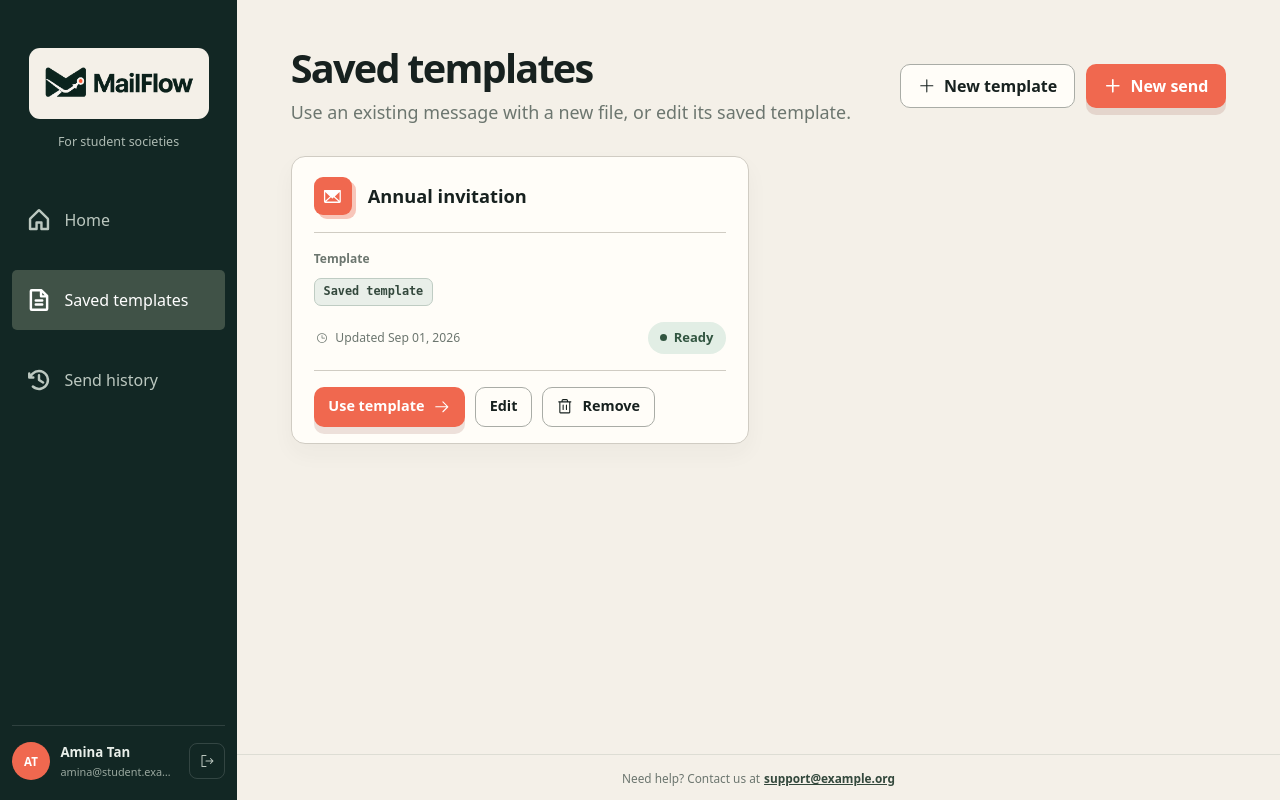
Test: authenticated information architecture › requires confirmation before removing a flow and then archives it
Click the button with aria-label "Remove Annual invitation".
click(598, 407)  # box [542,387,655,427]
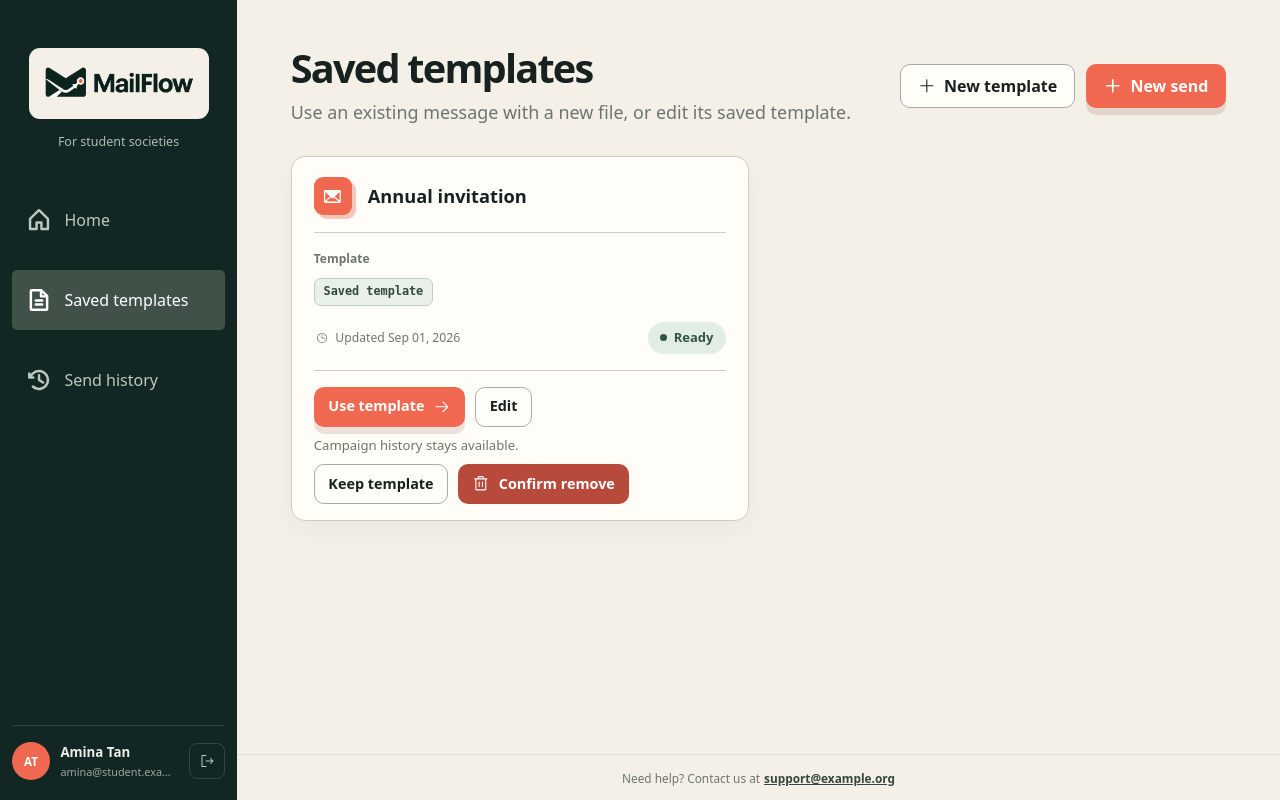
Expected: the text "Campaign history stays available." is shown, [314,436,519,454]
Click the button with aria-label "Confirm remove Annual invitation".
click(544, 484)  # box [458,464,630,504]
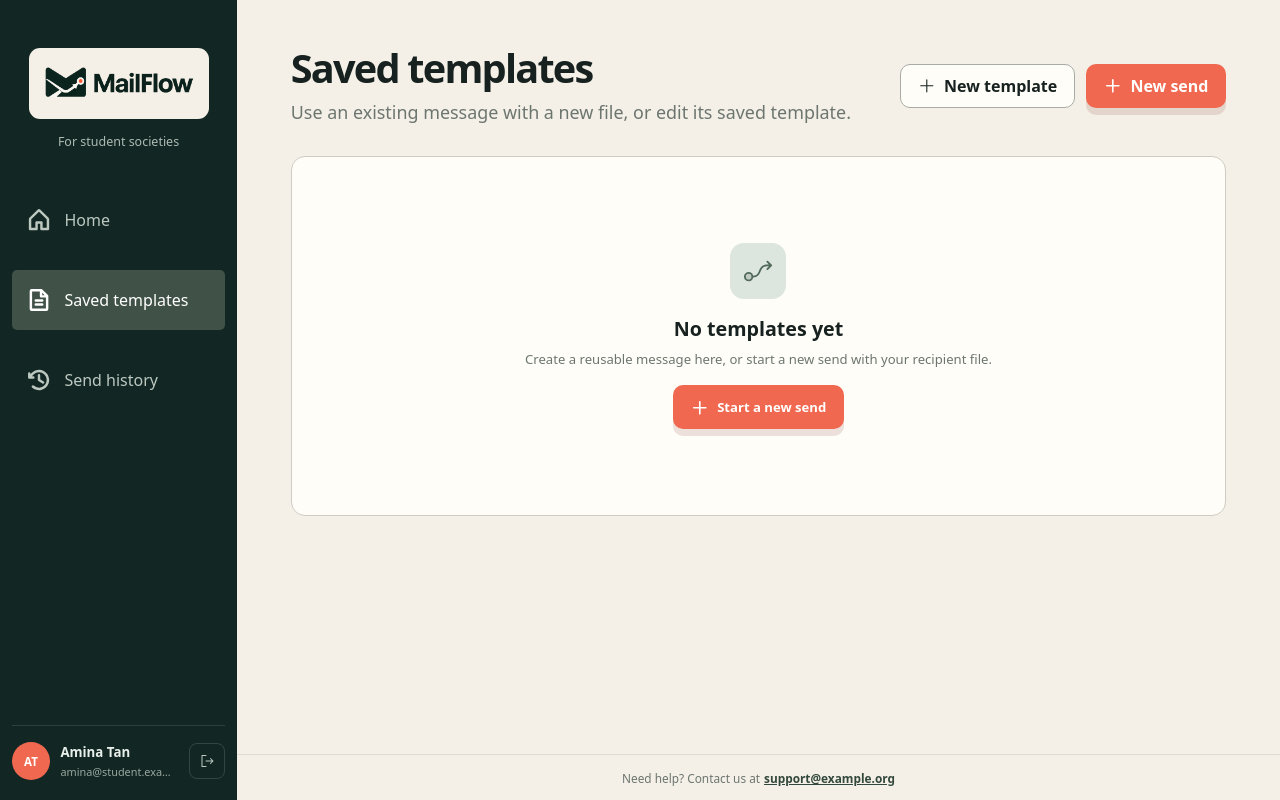
Expected: the heading "No templates yet" is shown, [674,315,843,342]
